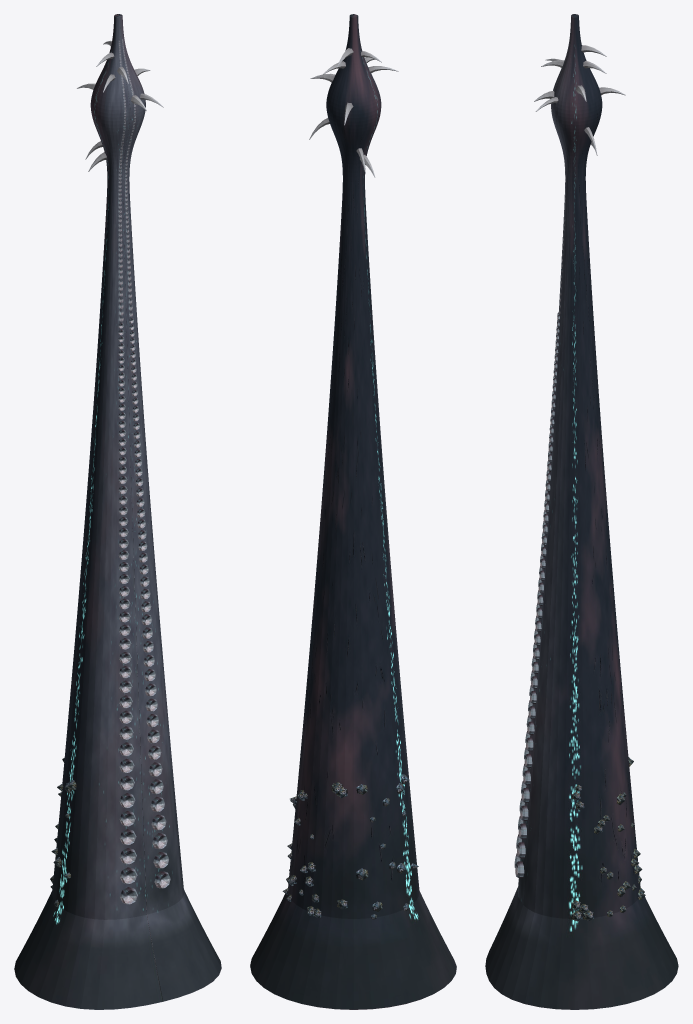
Rendered from kraken_tentacle_b.glb.
3 views of the same model, side by side, from view 1: azimuth 30°, elevation 25°; view 2: azimuth 150°, elevation 25°; view 3: azimuth 270°, elevation 25° (orthographic).
Parts seen in each view (by area): view 1: geometry_0; view 2: geometry_0; view 3: geometry_0.
Part boxes in pixels (<box>): geometry_0: <box>14,14,221,1009</box>; geometry_0: <box>250,14,456,1009</box>; geometry_0: <box>485,14,678,1009</box>.
Size of the model in its own units: 3.01 by 15.23 by 2.8.
1 material, 1 textured.
